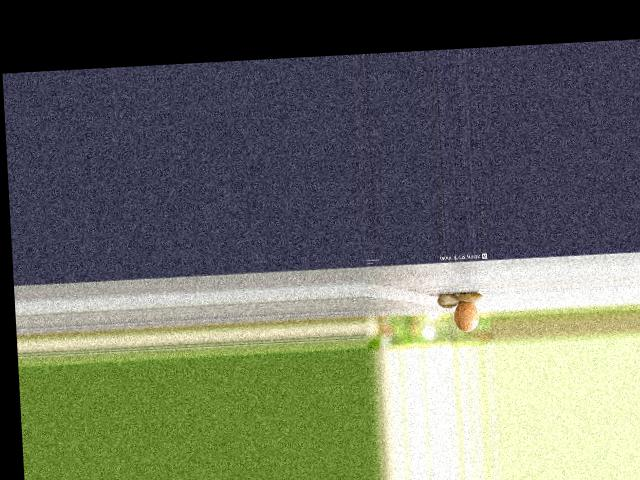egg: (452, 300, 479, 331)
